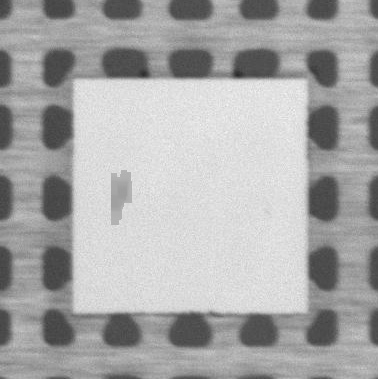DIE_INK: (108, 169, 135, 224)
